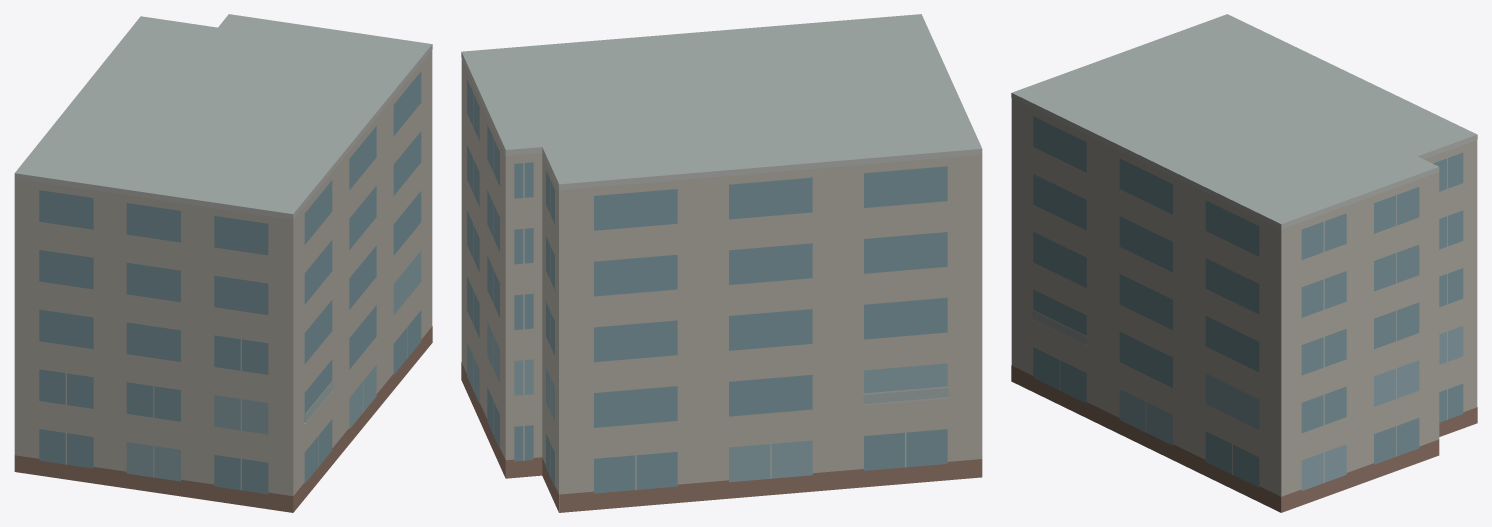
The model's file is survey-upis-32642506.glb.
The picture shows the model from 3 angles, left to right: view 1: azimuth 30°, elevation 25°; view 2: azimuth 150°, elevation 25°; view 3: azimuth 270°, elevation 25°; orthographic projection. The views are drawn at different scales.
Parts seen in each view (by area): view 1: survey-upis-32642506.tmp; view 2: survey-upis-32642506.tmp; view 3: survey-upis-32642506.tmp.
Part boxes in pixels (bbox=[...]): survey-upis-32642506.tmp: bbox=[14, 14, 432, 512]; survey-upis-32642506.tmp: bbox=[461, 14, 982, 512]; survey-upis-32642506.tmp: bbox=[1011, 14, 1477, 512].
Size of the model in its own units: 20.93 by 13.4 by 19.61.
